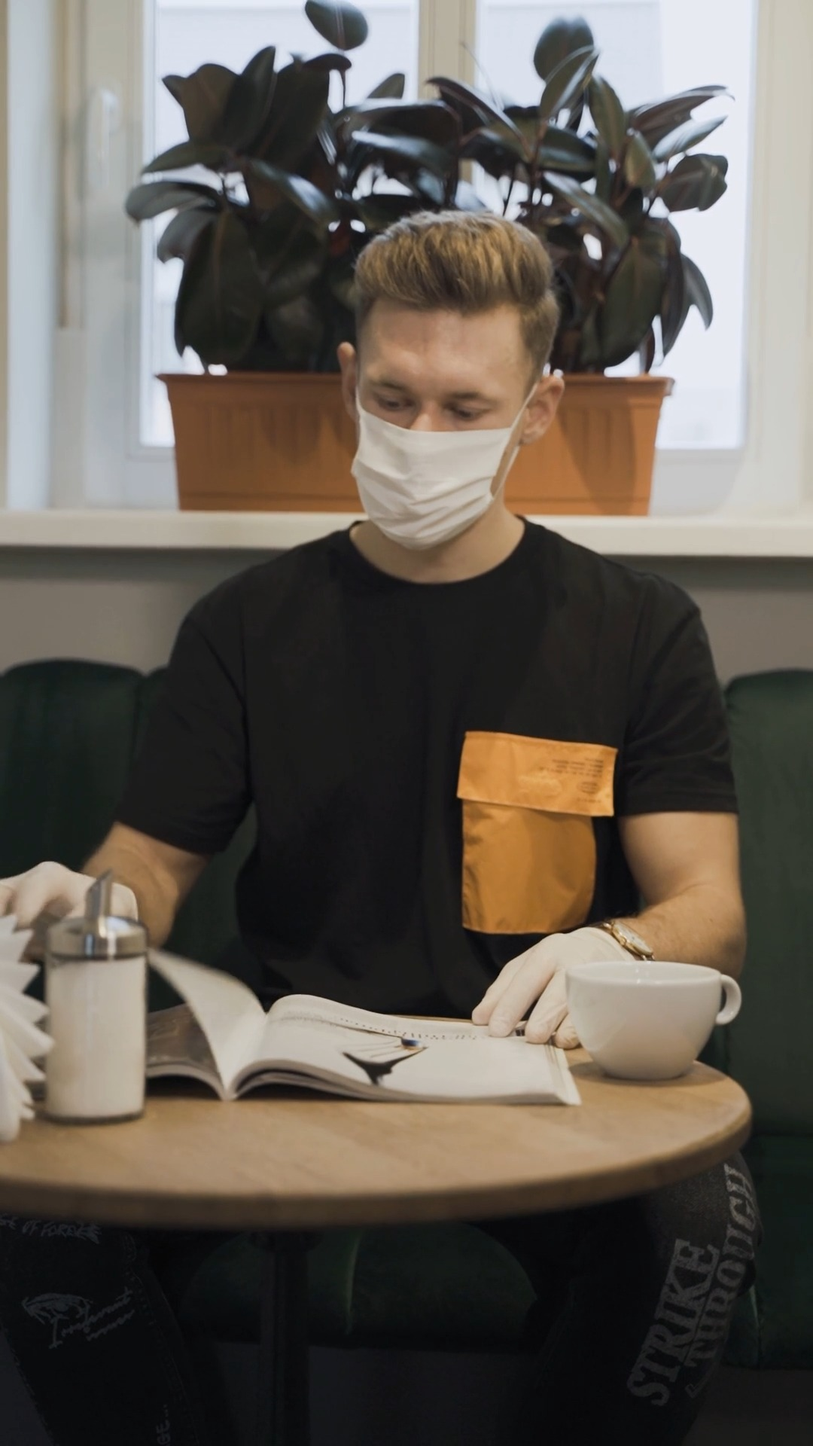gloves: (482, 896, 626, 1058)
